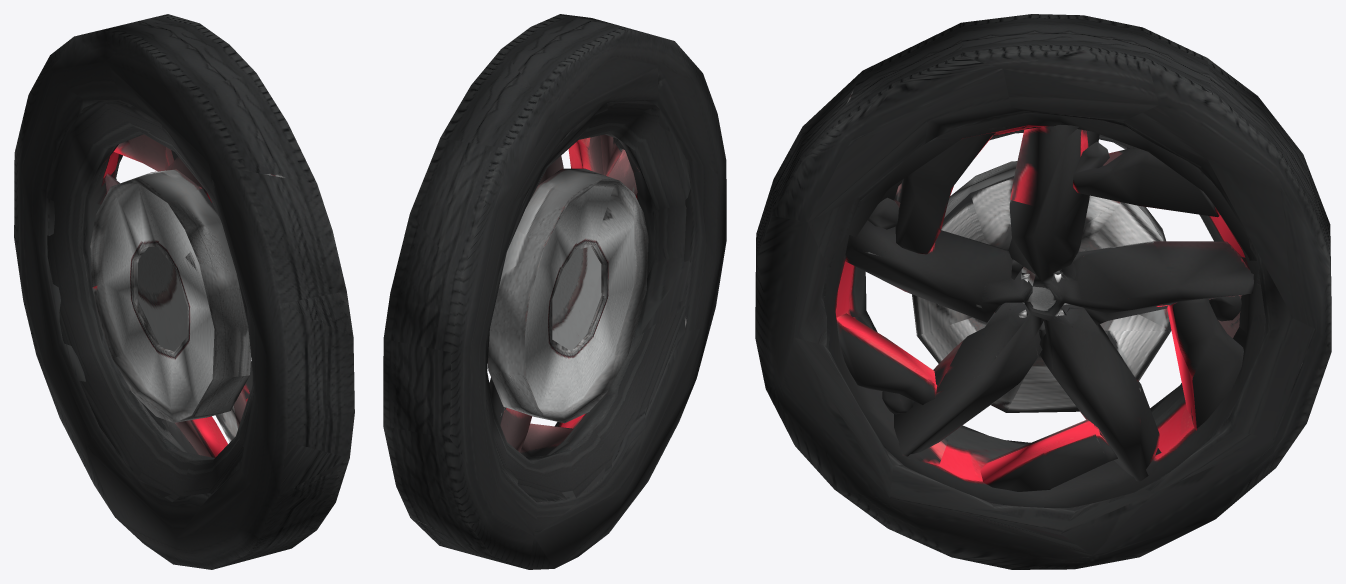
The model's file is kiwi_performance_wheel.obj.
3 views of the same model, side by side, from view 1: azimuth 30°, elevation 25°; view 2: azimuth 150°, elevation 25°; view 3: azimuth 270°, elevation 25° (orthographic). The views are drawn at different scales.
Parts seen in each view (by area): view 1: wheel; view 2: wheel; view 3: wheel.
Boxes of the visible parts, x1,y1,x2,y2 form: wheel: (14,14,354,569); wheel: (383,14,726,569); wheel: (755,14,1331,569).
Size of the model in its own units: 0.1288 by 0.6979 by 0.6974.
